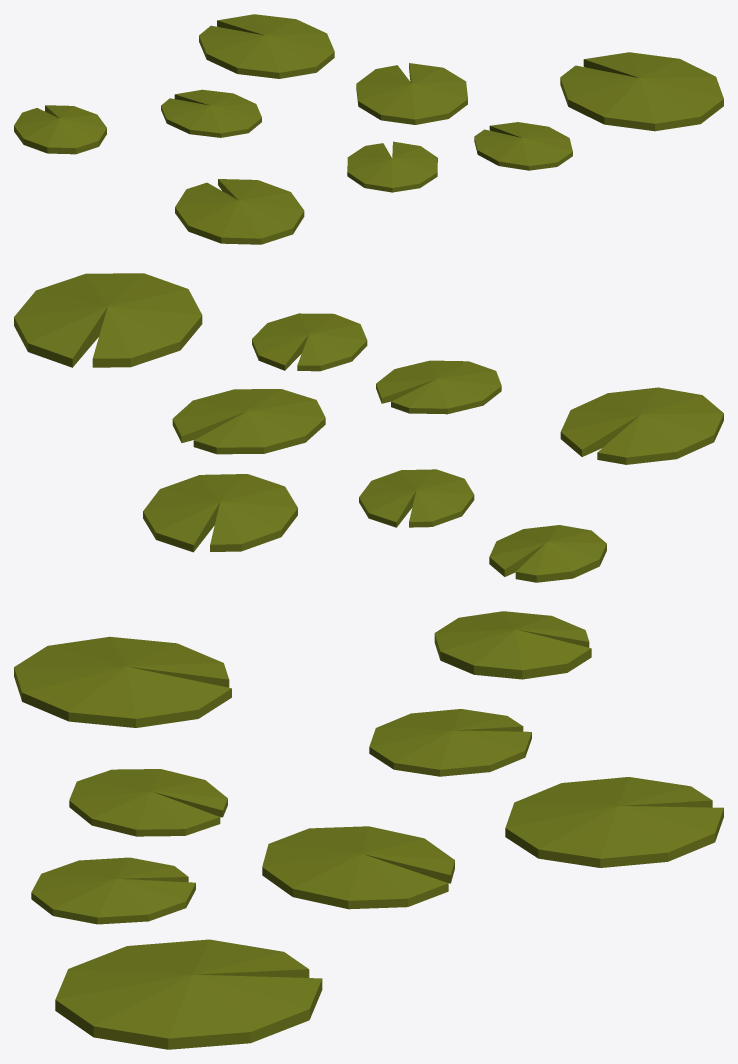
Rendered from Water Lily Multi_1.fbx.
3 views of the same model, one above another, from view 1: azimuth 30°, elevation 25°; view 2: azimuth 150°, elevation 25°; view 3: azimuth 270°, elevation 25° (orthographic). The views are drawn at different scales.
Parts seen in each view (by area): view 1: Water Lily Multi_1.001; view 2: Water Lily Multi_1.001; view 3: Water Lily Multi_1.001.
Boxes of the visible parts, x1=… form: Water Lily Multi_1.001: x1=14, y1=14, x2=723, y2=244; Water Lily Multi_1.001: x1=14, y1=273, x2=723, y2=582; Water Lily Multi_1.001: x1=14, y1=611, x2=723, y2=1049.
Size of the model in its own units: 1.32 by 0.0357 by 0.9199.
